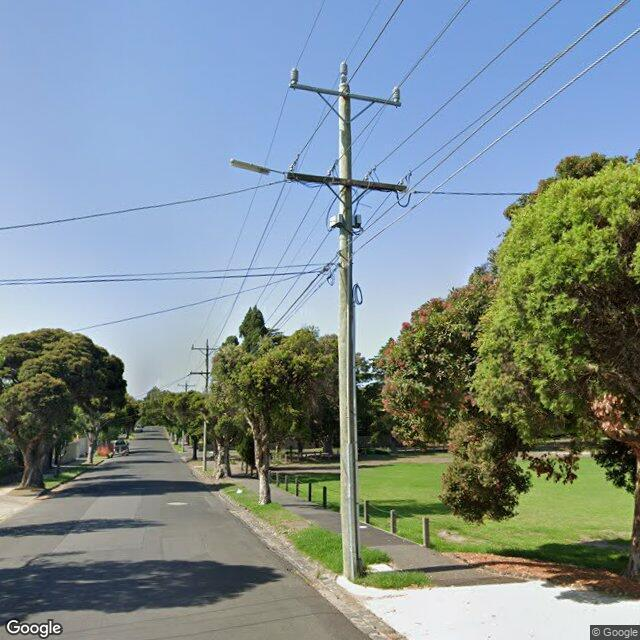HV-transmission: (289, 61, 402, 107), (191, 339, 221, 350)
crossarm: (287, 154, 413, 208), (290, 83, 402, 108), (177, 383, 196, 387), (190, 348, 220, 350), (190, 372, 212, 374)
streetlight: (230, 158, 287, 178)
timber-pole: (338, 83, 362, 579), (203, 345, 209, 472), (185, 381, 188, 392)
